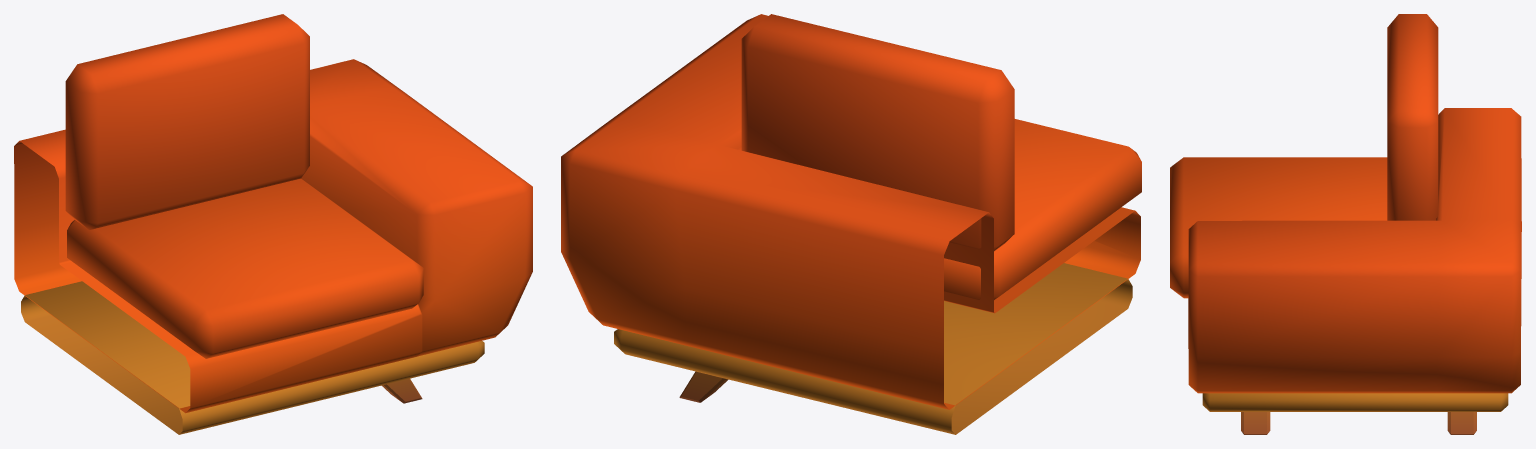
File: Sofa_L.fbx
3 views of the same model, side by side, from view 1: azimuth 30°, elevation 25°; view 2: azimuth 150°, elevation 25°; view 3: azimuth 270°, elevation 25° (orthographic). The views are drawn at different scales.
Visible parts, largest first — view 1: LargestSofa_L_End; view 2: LargestSofa_L_End; view 3: LargestSofa_L_End.
Boxes of the visible parts, left/top/right/bottom form: LargestSofa_L_End: left=14, top=14, right=532, bottom=434; LargestSofa_L_End: left=561, top=14, right=1141, bottom=434; LargestSofa_L_End: left=1170, top=14, right=1521, bottom=434.
Size of the model in its own units: 4.49 by 4 by 4.16.
